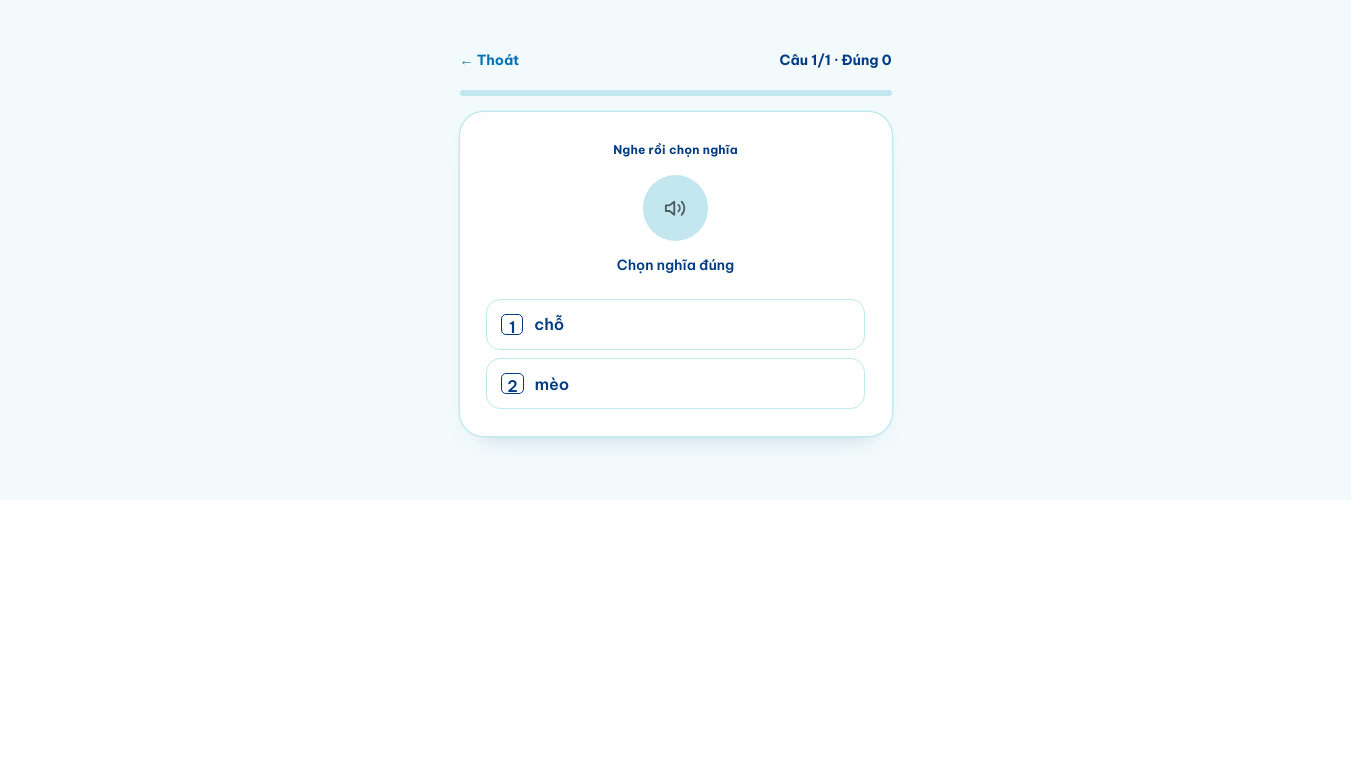
Test: Nghe chọn nghĩa › hides the word until a meaning is chosen, then grades recognition
The width and height of the screenshot is (1366, 768).
Expected: the button named "Phát âm từ cần nghe" is shown, [656, 188, 696, 228]
Expected: the text "spot" is not shown
Click the button "1 chỗ" at (549, 324), box [486, 299, 865, 350]
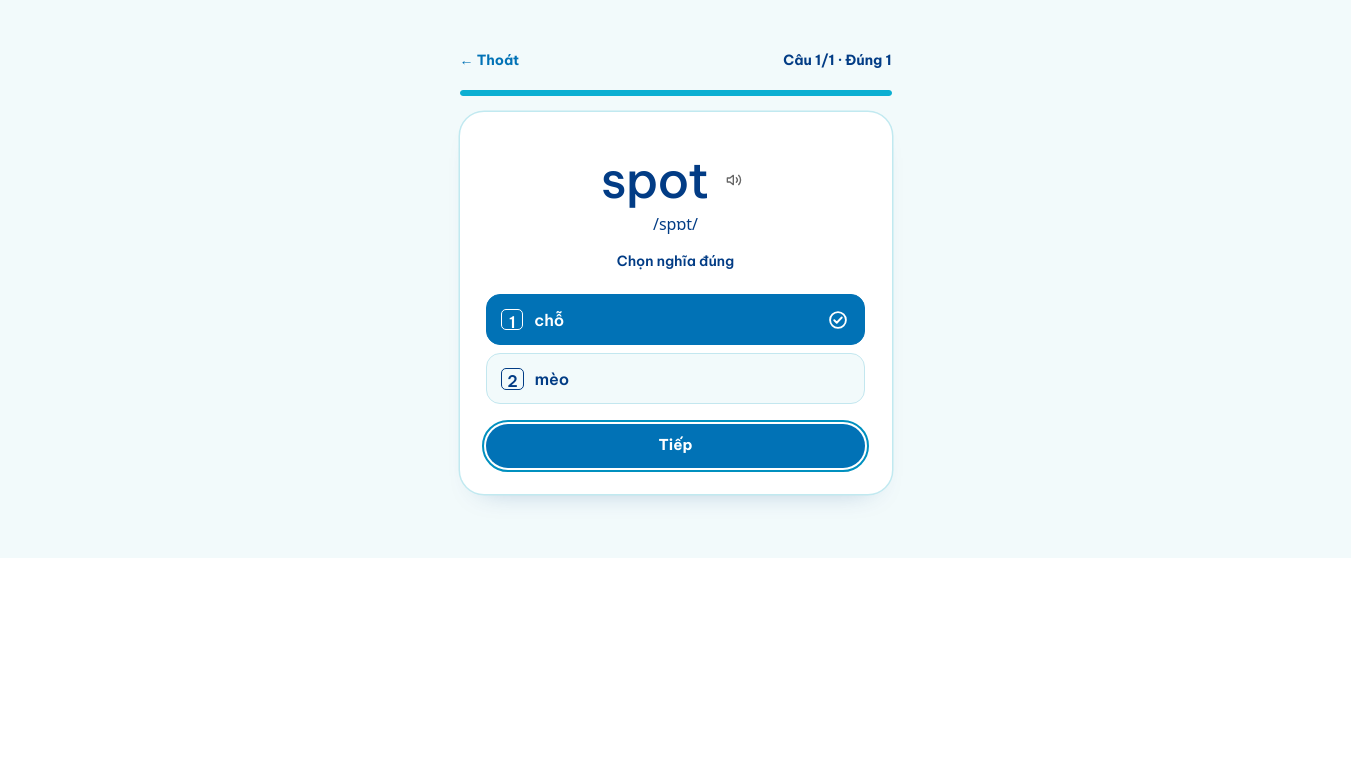
Now the text "spot" is shown, box [601, 154, 709, 207]
